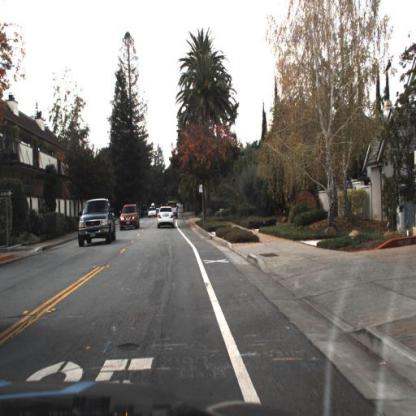car: (77, 196, 116, 250), (119, 201, 142, 235), (155, 204, 178, 234), (165, 200, 179, 221)
